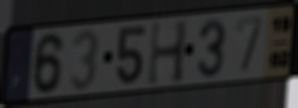3: (69, 25, 103, 94), (195, 16, 227, 80)
5: (115, 24, 148, 87)
6: (33, 30, 65, 96)
7: (235, 14, 264, 76)
H: (145, 18, 190, 89)
